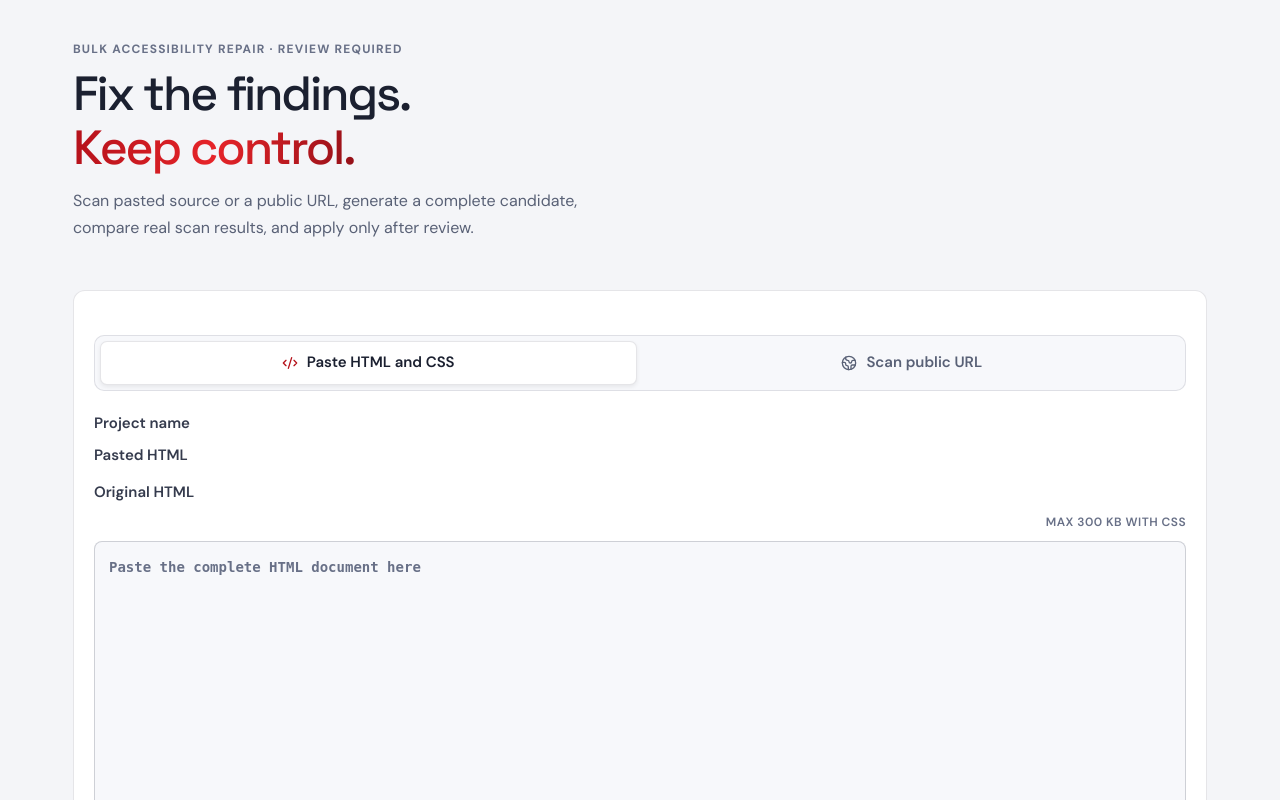
it: Fix All repair workspace › fetches URLs through the API and reports inaccessible styles without claiming a full capture
Click the button "Scan public URL": {"x": 912, "y": 363} [644,341,1180,385]
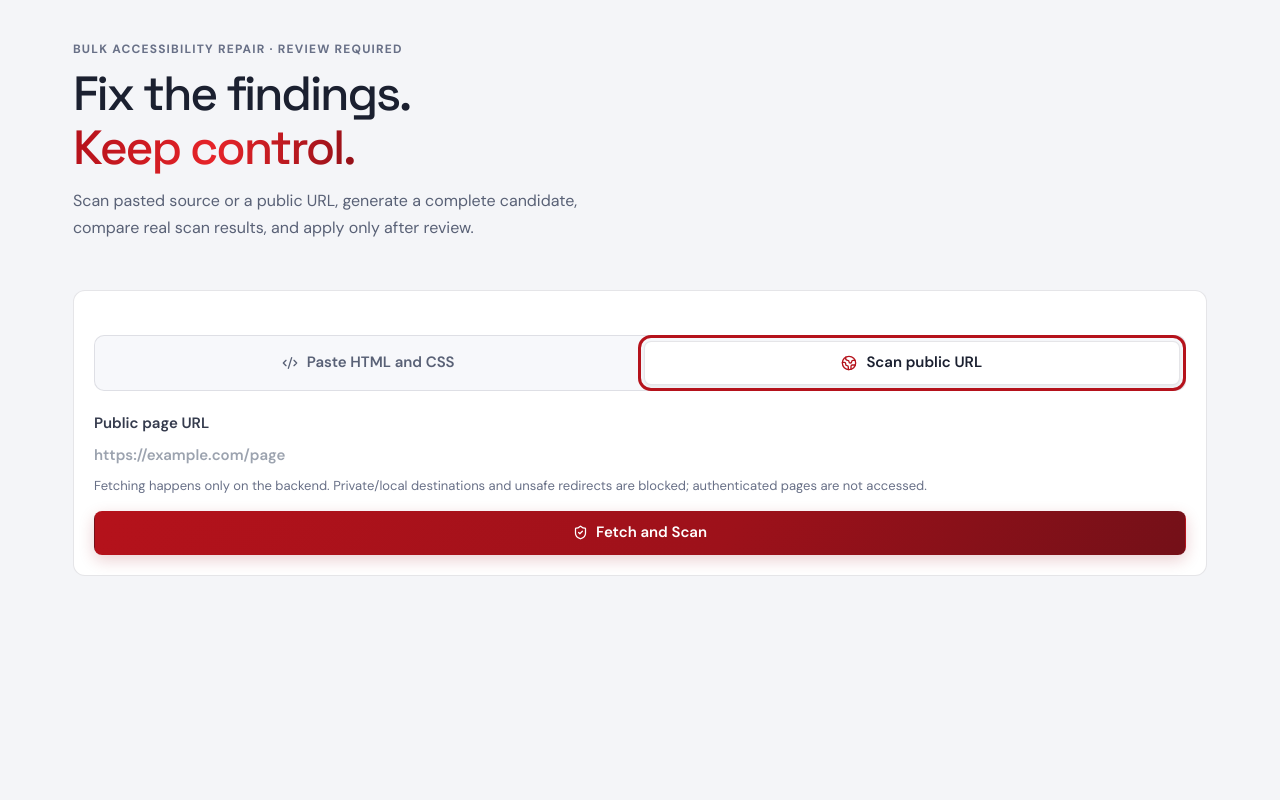
In the field labelled "Public page URL": {"x": 640, "y": 456} [94,444,1186,467], type "https://example.test"
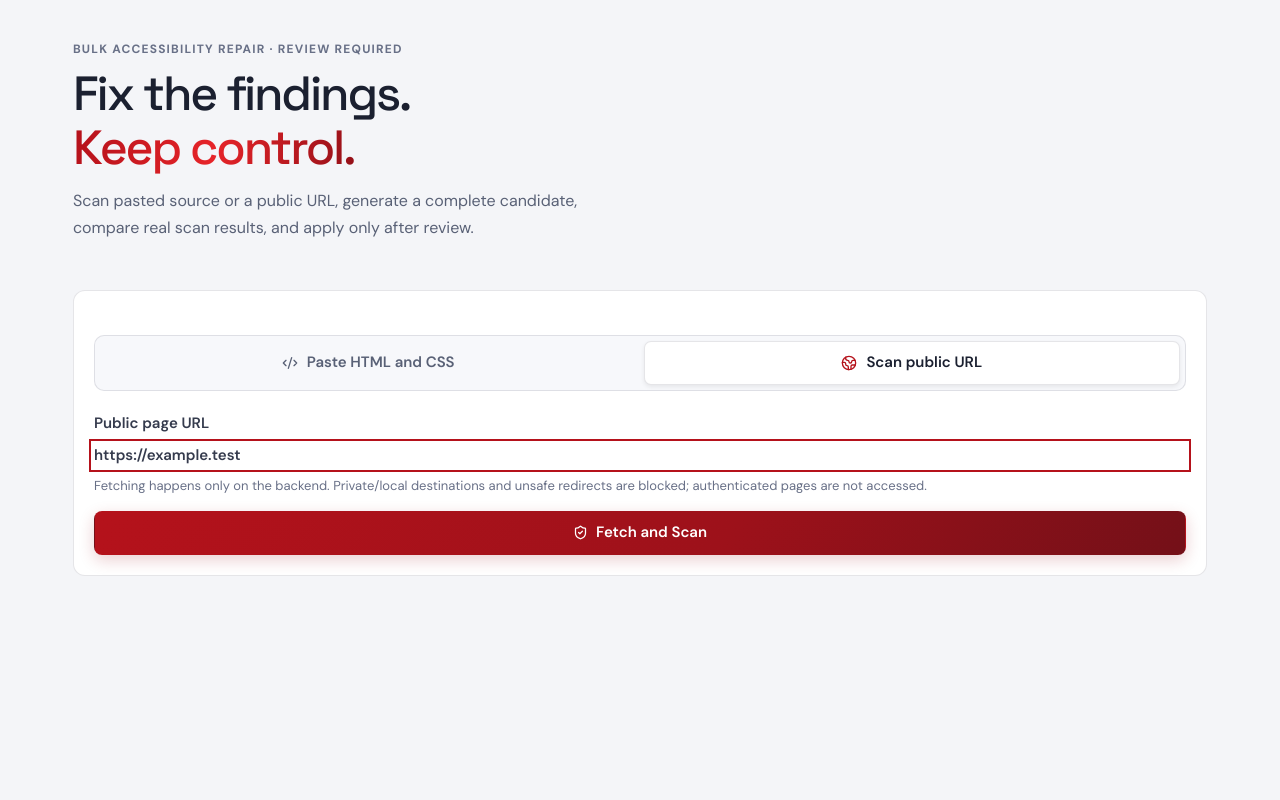
Click the button "Fetch and Scan": {"x": 640, "y": 533} [94,511,1186,555]
(page scrolled)
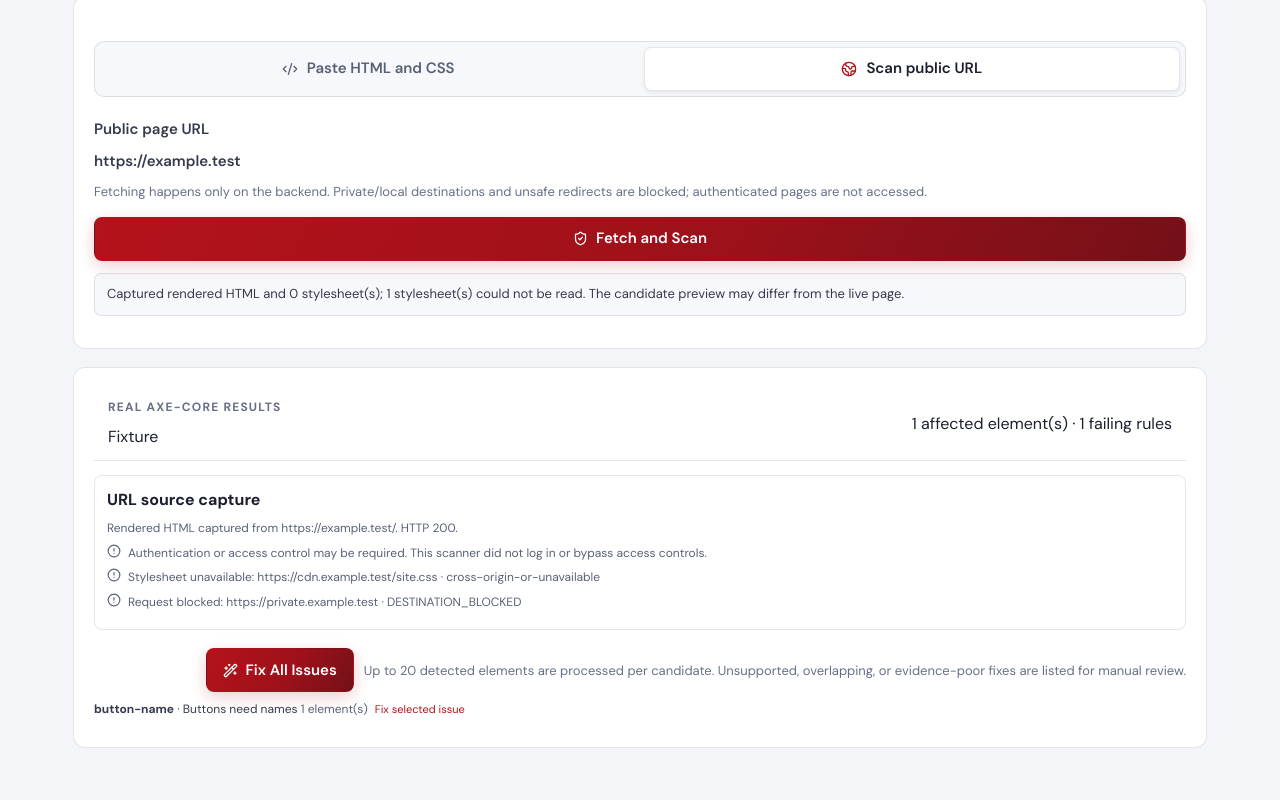
Result: the text "Authentication or access control may be required" is shown at [128,545,707,561]
Result: the text "Stylesheet unavailable: https://cdn.example.test/site.css" is shown at [107,568,600,585]
Result: the text "Request blocked: https://private.example.test" is shown at [107,593,521,610]
